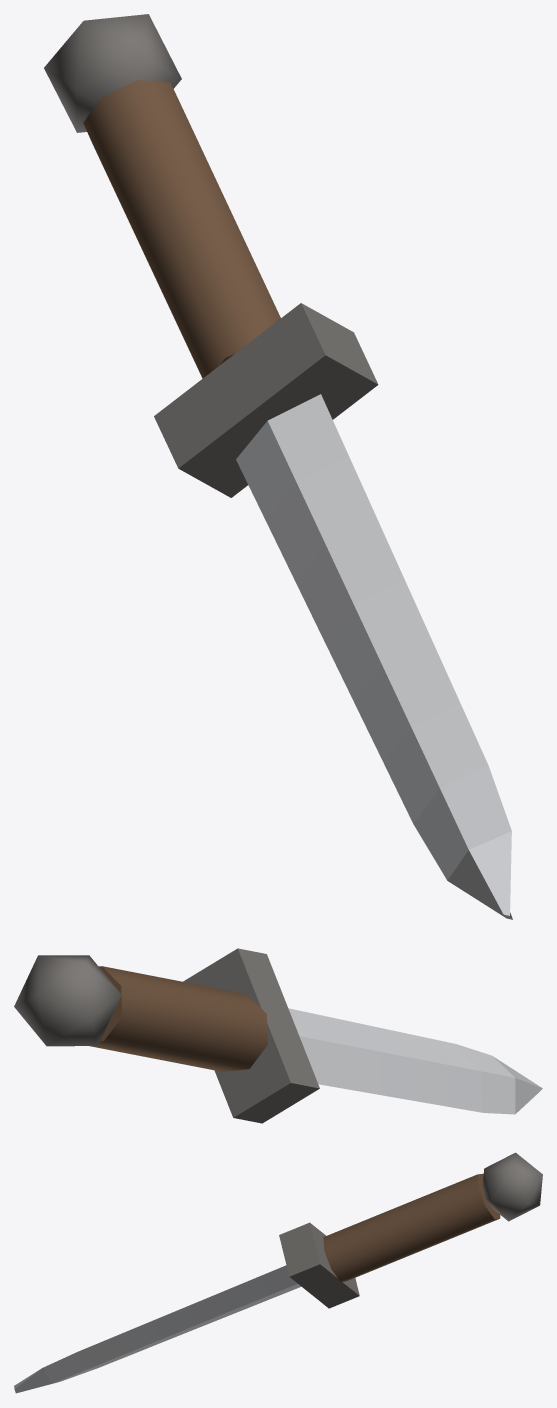
File: wpn_dagger.glb
The picture shows the model from 3 angles, top to bottom: view 1: azimuth 30°, elevation 25°; view 2: azimuth 150°, elevation 25°; view 3: azimuth 270°, elevation 25°; orthographic projection. The views are drawn at different scales.
Visible parts, largest first — view 1: wpn_dagger; view 2: wpn_dagger; view 3: wpn_dagger.
Boxes of the visible parts, x1,y1,x2,y2 form: wpn_dagger: [44, 14, 512, 919]; wpn_dagger: [14, 948, 542, 1123]; wpn_dagger: [14, 1152, 542, 1393].
Bounding box in the file's own units: 0.048 × 0.1312 × 0.2437.
